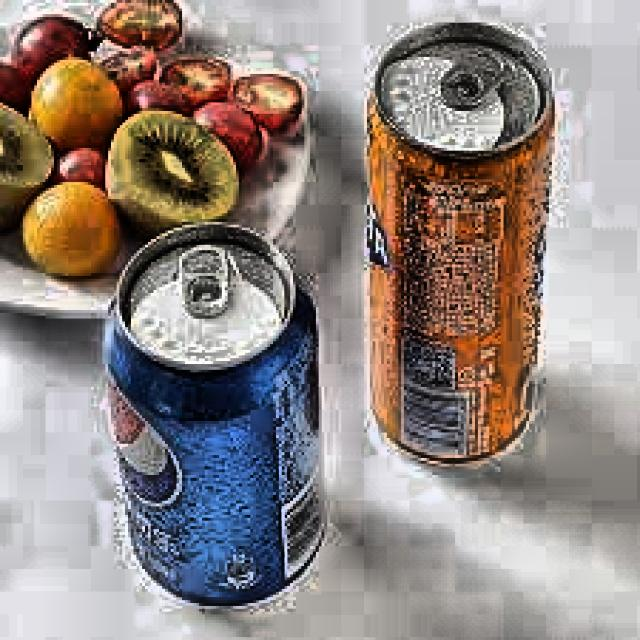can: (84, 212, 342, 621), (362, 11, 562, 488)
